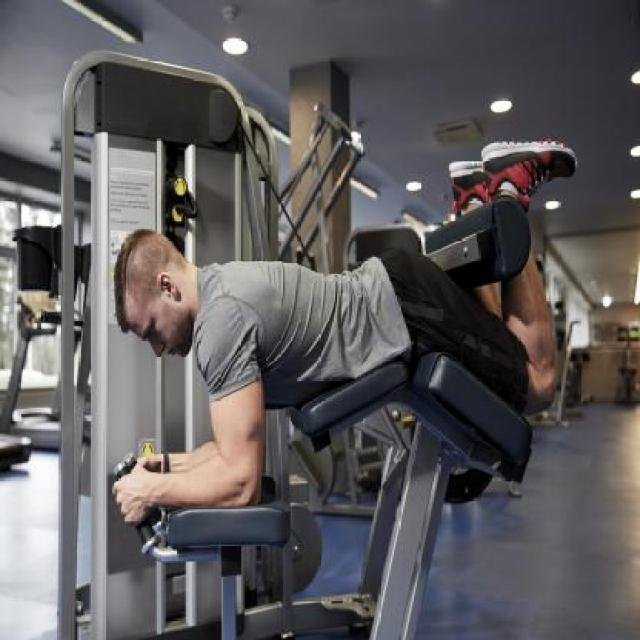reg curl machine: (60, 49, 578, 640)
